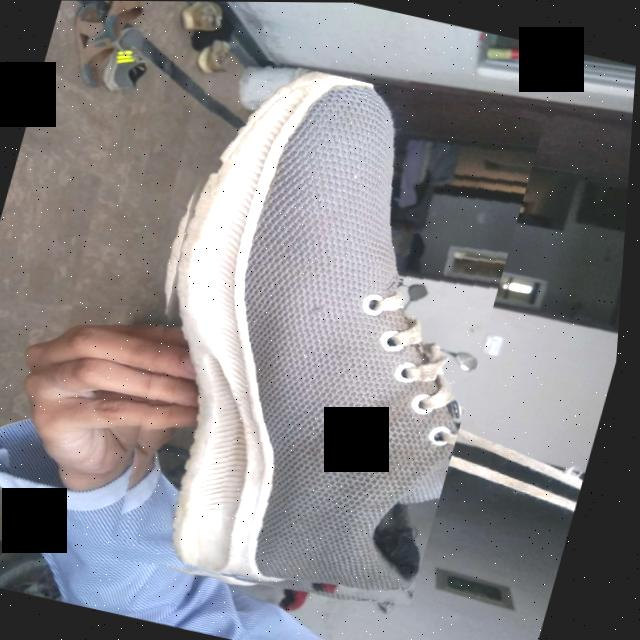shoe: (89, 50, 550, 623)
